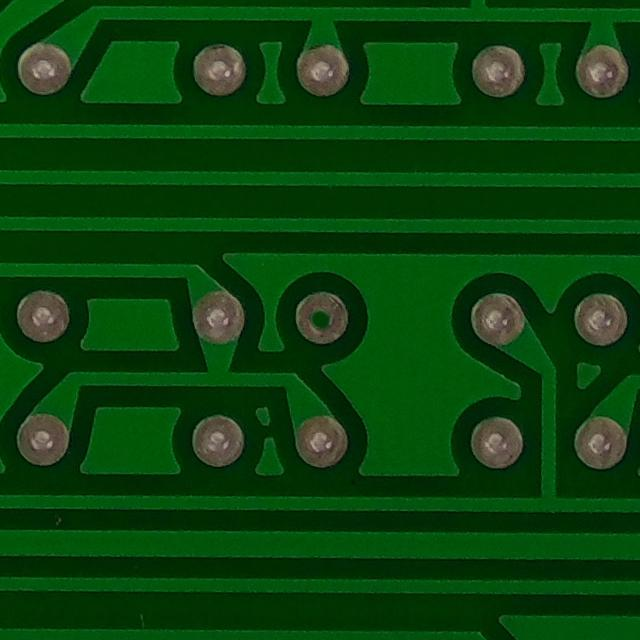missing_hole: (295, 289, 346, 351)
